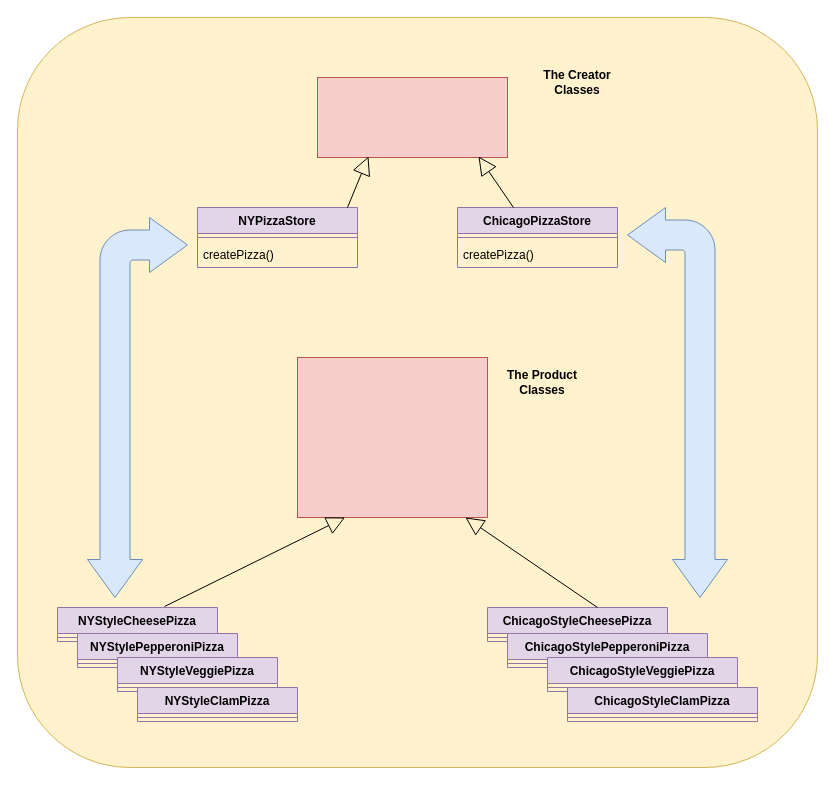
The diagram is 835 pixels wide and 785 high, and some of its shapes have lost their labels. The shapes that lost their labels are listed below. From the top down, each one's centre as x and y in pixels, then its label:
the point at 412,117: <<Abstract>> PizzaStore createPizza() orderPizza()
the point at 392,437: <<Abstract>> Pizza name description prepare() bake() cut() box()
